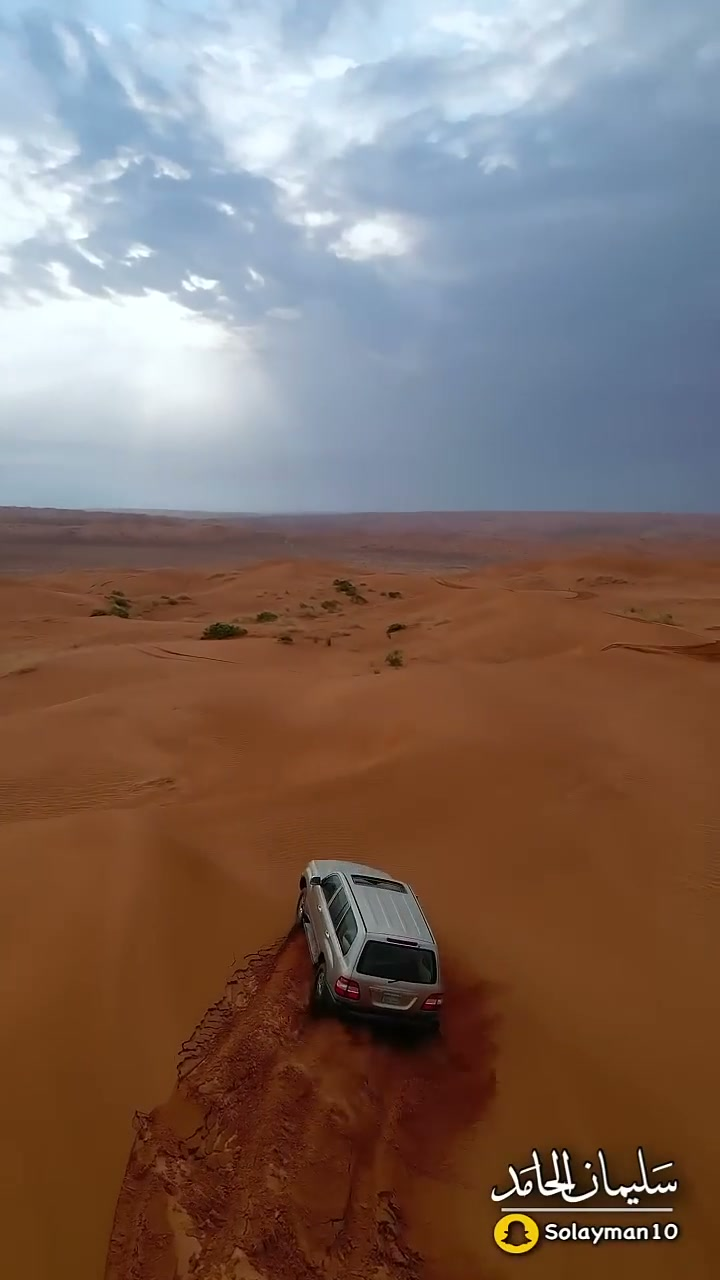vehicle_track: (106, 933, 492, 1279)
